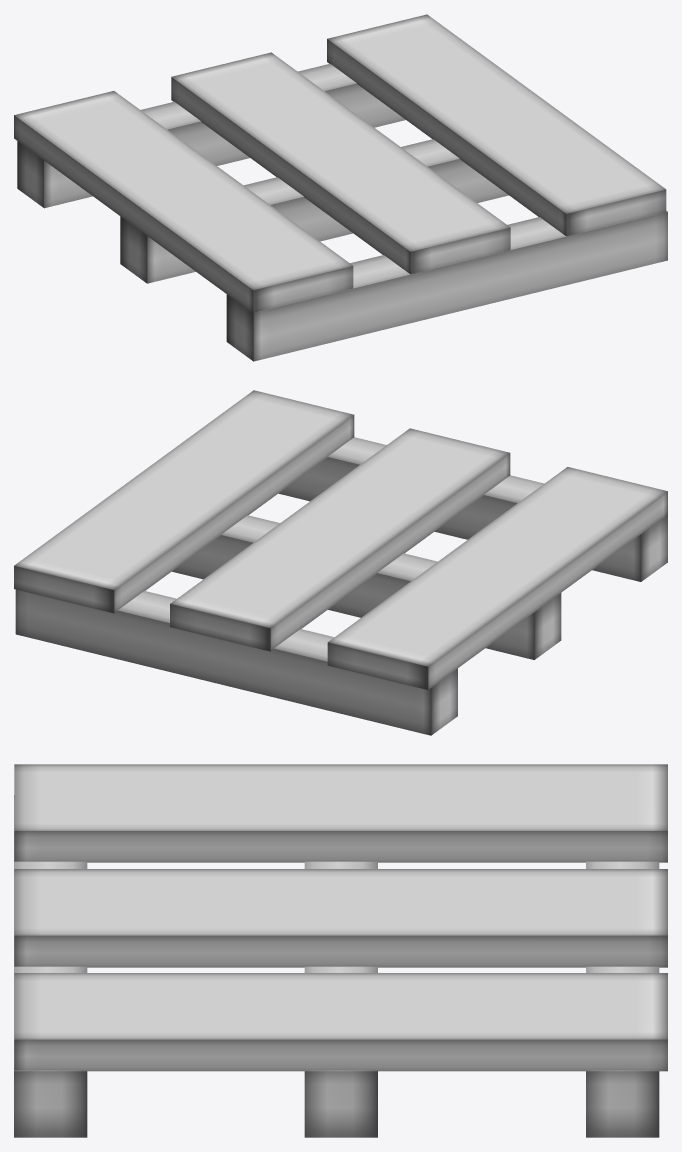
The model's file is Pallet-01.fbx.
3 renders of one model, top to bottom at view 1: azimuth 30°, elevation 25°; view 2: azimuth 150°, elevation 25°; view 3: azimuth 270°, elevation 25°, orthographic. The views are drawn at different scales.
Parts seen in each view (by area): view 1: Pallet_01; view 2: Pallet_01; view 3: Pallet_01.
Boxes of the visible parts, x1,y1,x2,y2 form: Pallet_01: [14, 14, 667, 361]; Pallet_01: [14, 390, 667, 735]; Pallet_01: [14, 764, 667, 1137].
Size of the model in its own units: 0.8866 by 0.1455 by 0.8869.
